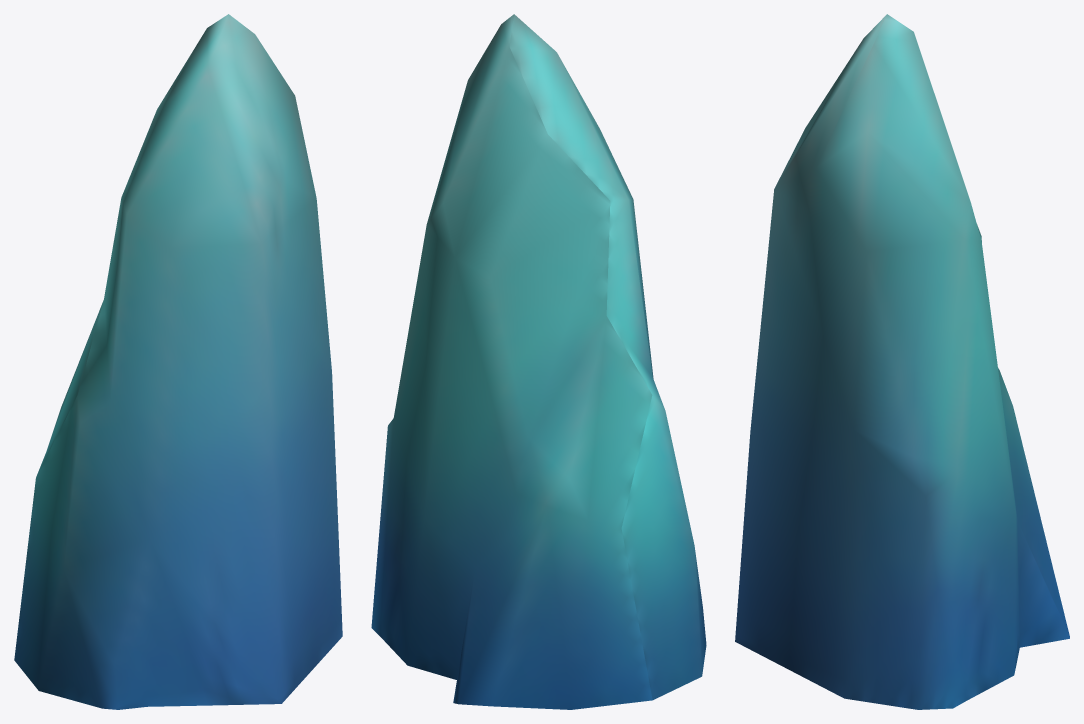
File: IceSpike2.fbx
3 views of the same model, side by side, from view 1: azimuth 30°, elevation 25°; view 2: azimuth 150°, elevation 25°; view 3: azimuth 270°, elevation 25° (orthographic). The views are drawn at different scales.
Parts seen in each view (by area): view 1: IceSpike; view 2: IceSpike; view 3: IceSpike.
Part boxes in pixels (x1,y1,x2,y2): IceSpike: [14, 14, 342, 709]; IceSpike: [371, 14, 706, 709]; IceSpike: [735, 14, 1069, 709].
Size of the model in its own units: 51.56 by 101 by 48.09.
